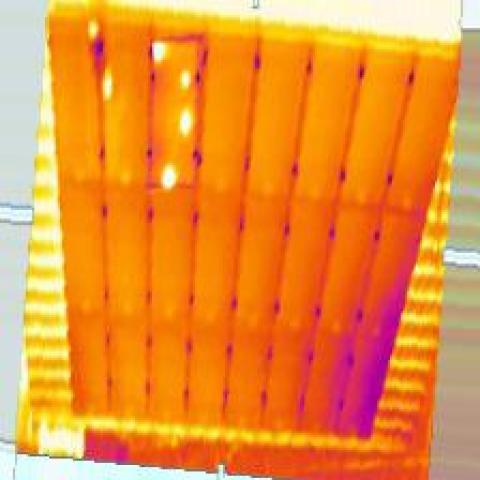fault: (98, 62, 118, 107), (174, 105, 197, 144), (154, 161, 178, 193), (176, 64, 197, 99), (148, 34, 169, 69), (81, 15, 103, 41)
